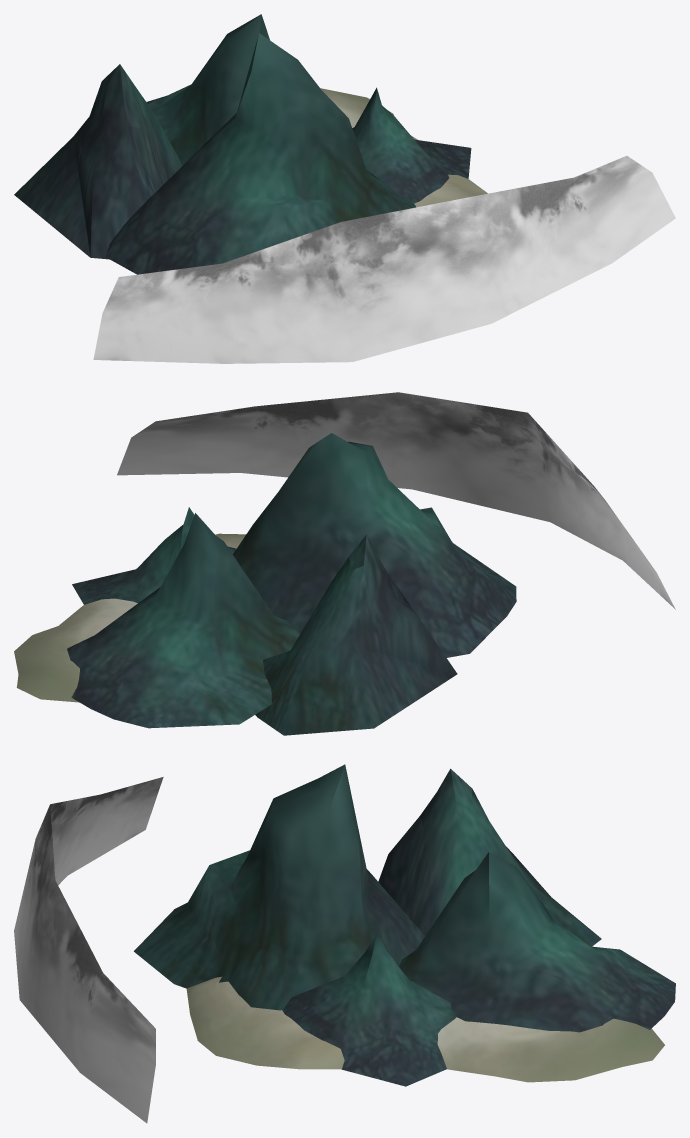
Rendered from pir_m_are_isl_mysterious_04_low.fbx.
3 renders of one model, top to bottom at view 1: azimuth 30°, elevation 25°; view 2: azimuth 150°, elevation 25°; view 3: azimuth 270°, elevation 25°, orthographic. The views are drawn at different scales.
Parts seen in each view (by area): view 1: fog, hill1, hill3, hill, hill2, ground, ground1; view 2: fog, hill1, hill, hill3, ground1, hill2; view 3: hill1, hill, fog, hill2, hill3, ground1, ground.
Boxes of the visible parts, bbox=[...] form: fog: bbox=[93, 155, 675, 363]; hill1: bbox=[105, 33, 415, 274]; hill3: bbox=[14, 64, 182, 259]; hill: bbox=[146, 14, 269, 164]; hill2: bbox=[352, 87, 471, 203]; ground: bbox=[414, 174, 487, 207]; ground1: bbox=[320, 88, 417, 139]; fog: bbox=[117, 392, 675, 609]; hill1: bbox=[233, 433, 516, 657]; hill: bbox=[67, 513, 299, 728]; hill3: bbox=[255, 534, 457, 735]; ground1: bbox=[14, 598, 137, 702]; hill2: bbox=[72, 507, 236, 604]; hill1: bbox=[134, 764, 425, 1010]; hill: bbox=[399, 852, 675, 1032]; fog: bbox=[14, 777, 163, 1123]; hill2: bbox=[282, 932, 456, 1086]; hill3: bbox=[378, 768, 601, 946]; ground1: bbox=[437, 1017, 664, 1082]; ground: bbox=[186, 977, 344, 1069].
Size of the model in its own units: 303763 by 106831 by 290363.
2 materials, 2 textured.
